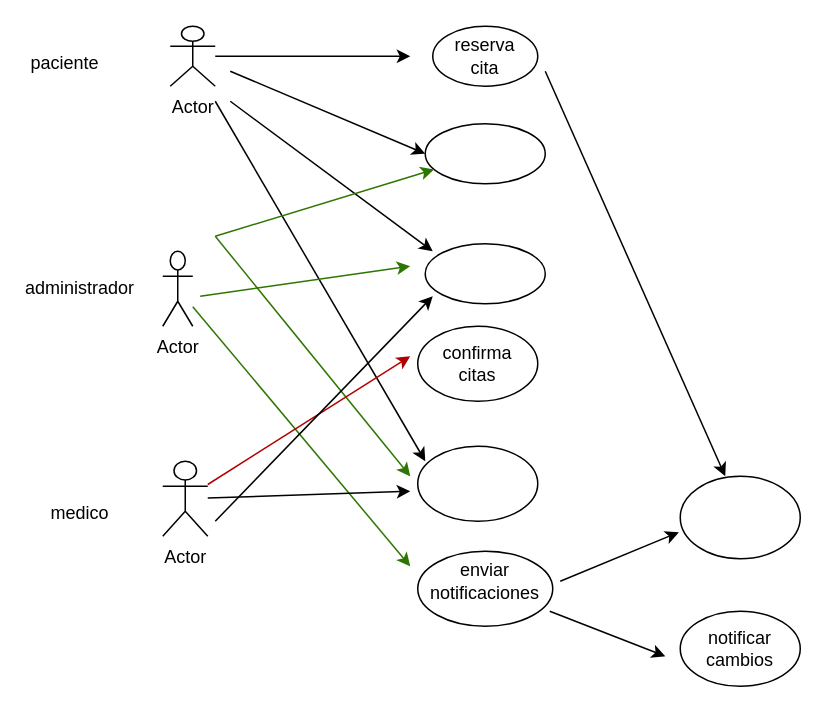
The diagram is 827 pixels wide and 713 high, and some of its shapes have lost their labels. Here are the shapes that lost their labels. From the top down, the centre of each, then its label:
the point at 484,153: modifica cita
the point at 484,273: cancela cita
the point at 477,483: ver historial
the point at 739,517: enviar recordatorio
